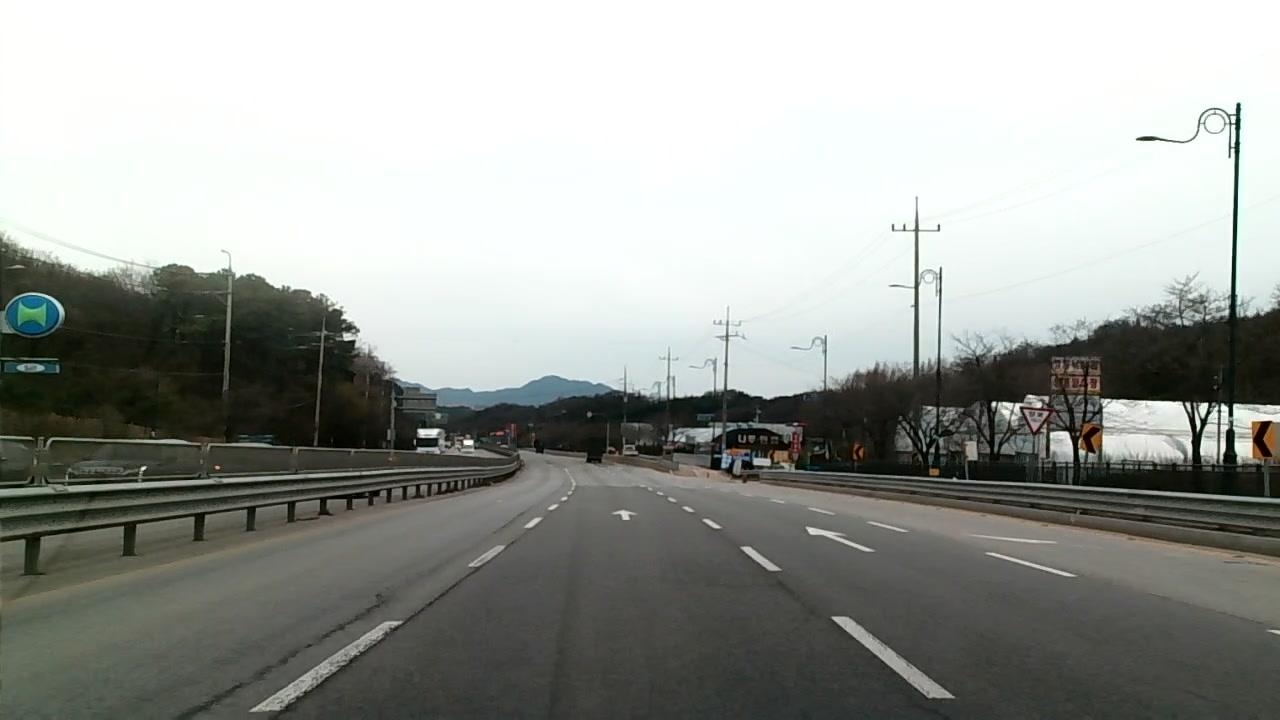banner: (223, 562, 486, 720), (97, 588, 386, 720)
